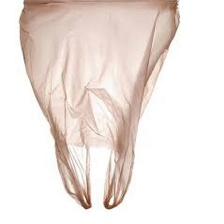plastic_bag: (13, 0, 182, 210)
